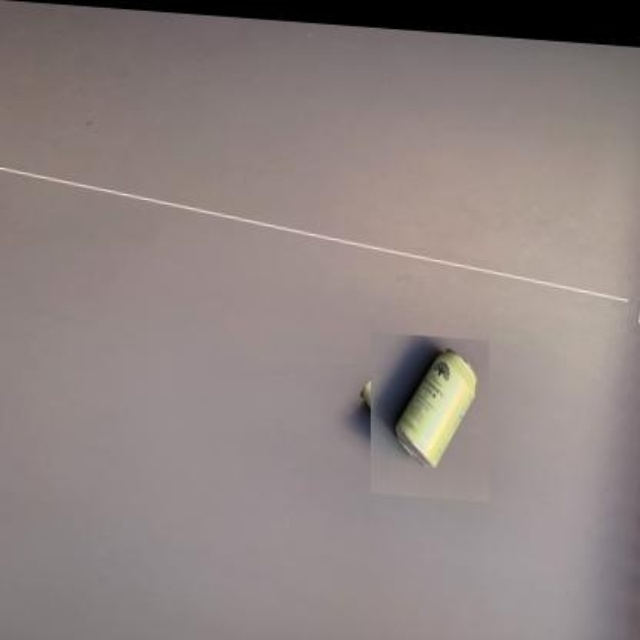trash: (395, 349, 475, 466)
